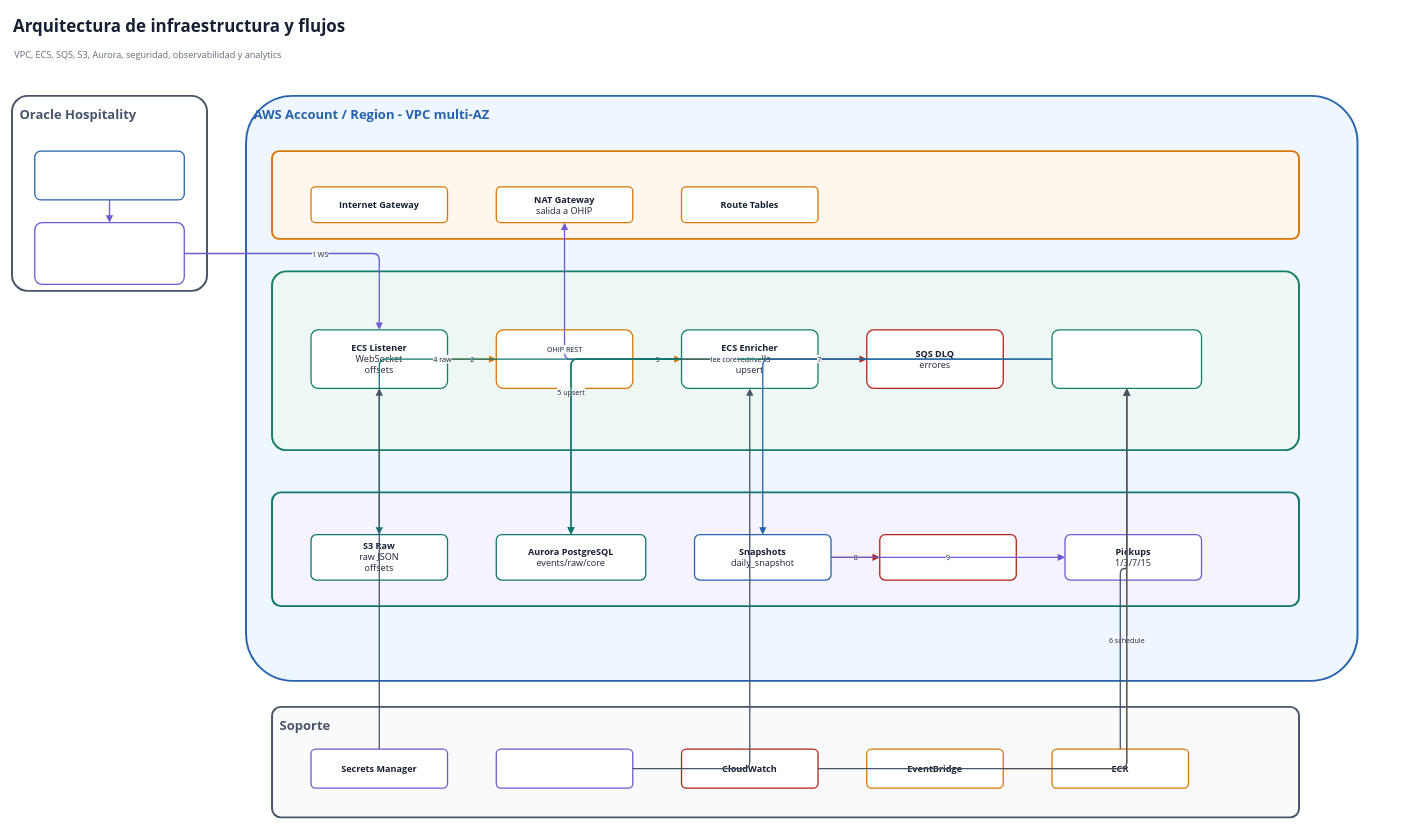
Some shapes in this 1401 by 829 pixel diagram are drawn without their labels. The box of each missing label's shape, as (x1, y1, x2, y2) in pixels:
Capa de datos: (271, 491, 1300, 607)
ECS Analytics Job snapshots last status pickups: (1051, 329, 1202, 389)
IAM + KMS: (495, 748, 633, 788)
Last Status reserva unica: (879, 534, 1017, 580)
OHIP OAuth Streaming + Property APIs: (34, 222, 185, 285)
OPERA Cloud PMS Business Events: (34, 150, 185, 200)
SQS FIFO dedupe ordering: (495, 329, 633, 389)
Subredes privadas ECS: (271, 270, 1300, 451)
Subredes publicas: (271, 150, 1300, 240)
